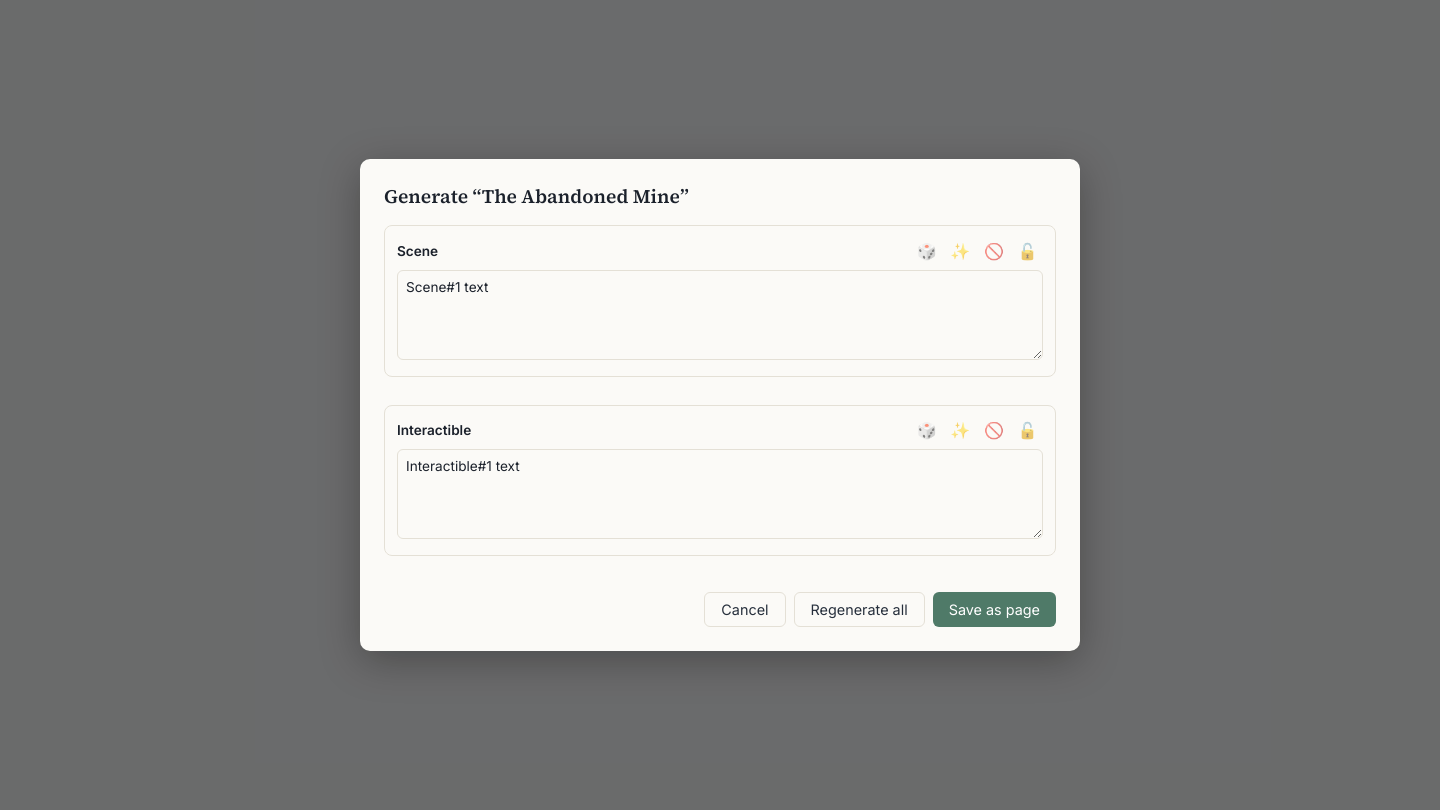
Test case: AiTemplatePanel › a failed reroll keeps the previous content and shows the error on that card only
This screenshot has width=1440, height=810.
Check: the text box named "Interactible#1" is not empty, box [397,449,1043,539]
Click the button named "Reroll" at [927, 251], box [911,238,942,263]
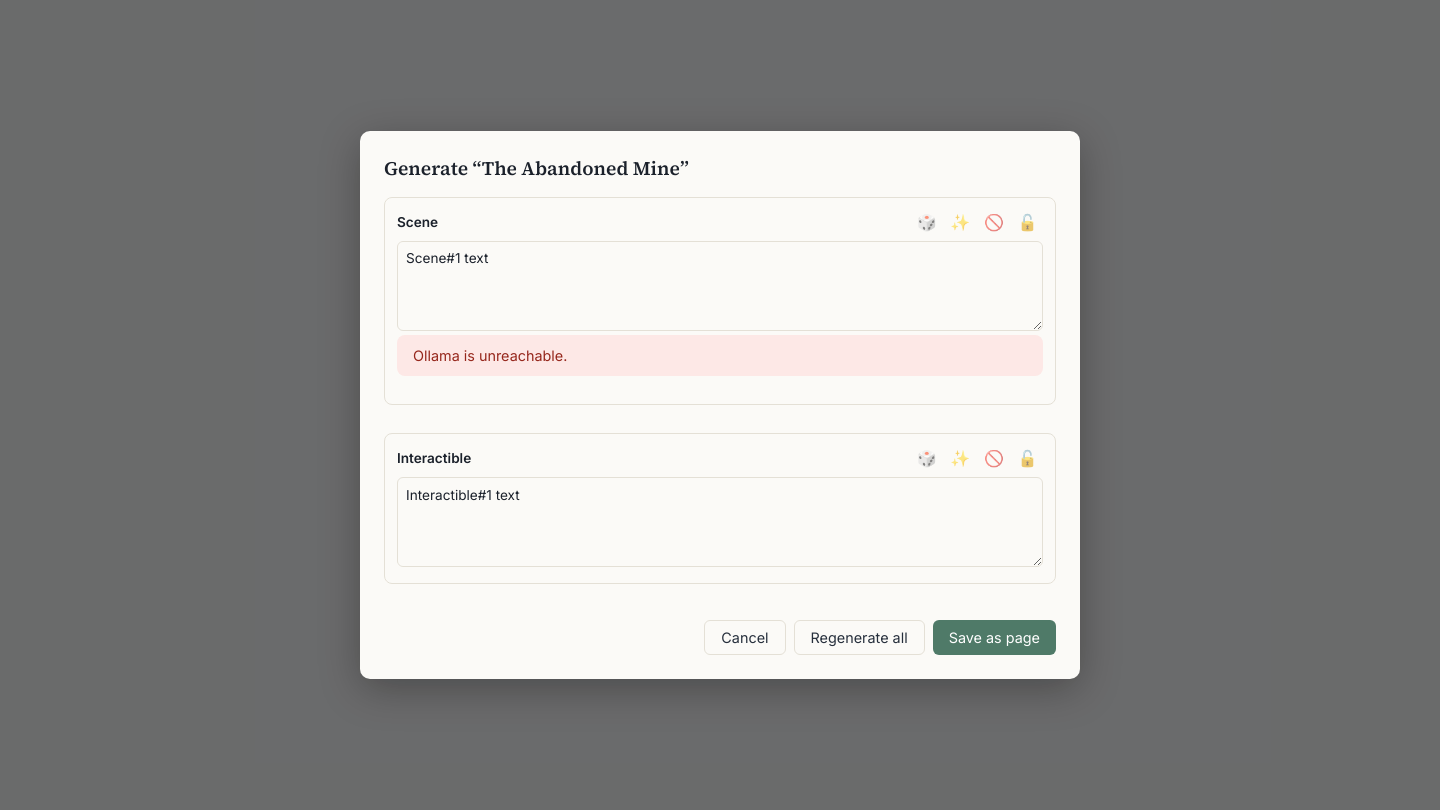
Check: the text box named "Scene#1" holds "Scene#1 text", box [397,241,1043,331]
Check: the text "Ollama is unreachable." is shown, box [397,335,1043,376]
